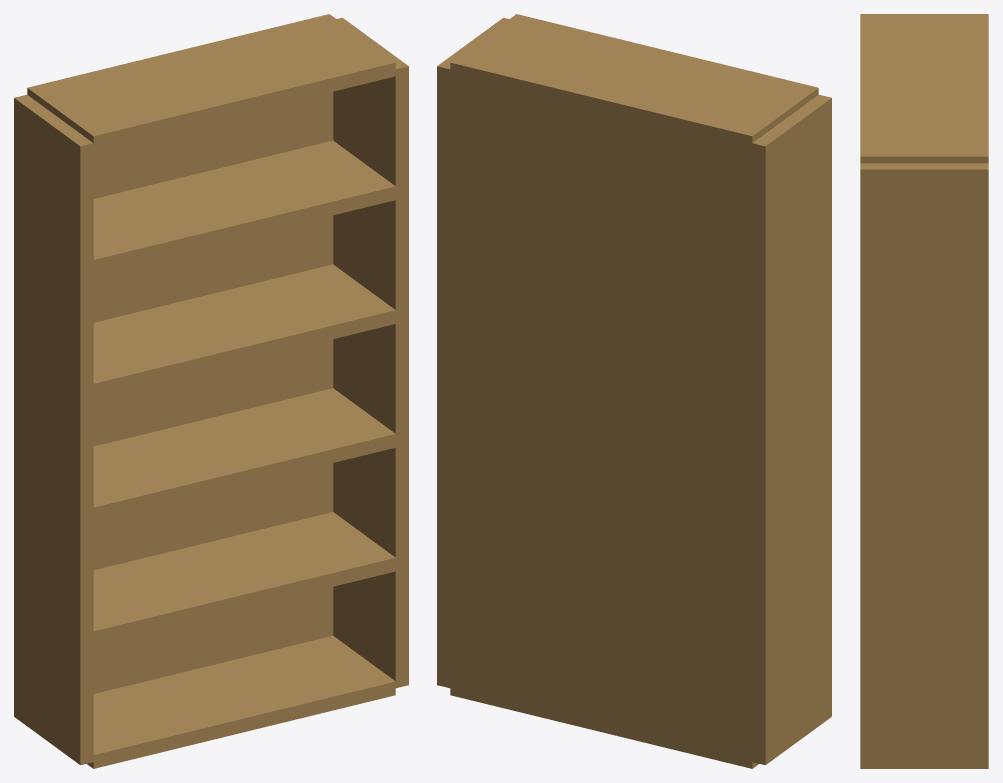
The model's file is bookshelf.glb.
The picture shows the model from 3 angles, left to right: view 1: azimuth 30°, elevation 25°; view 2: azimuth 150°, elevation 25°; view 3: azimuth 270°, elevation 25°; orthographic projection. The views are drawn at different scales.
Size of the model in its own units: 1 by 1.84 by 0.35.
